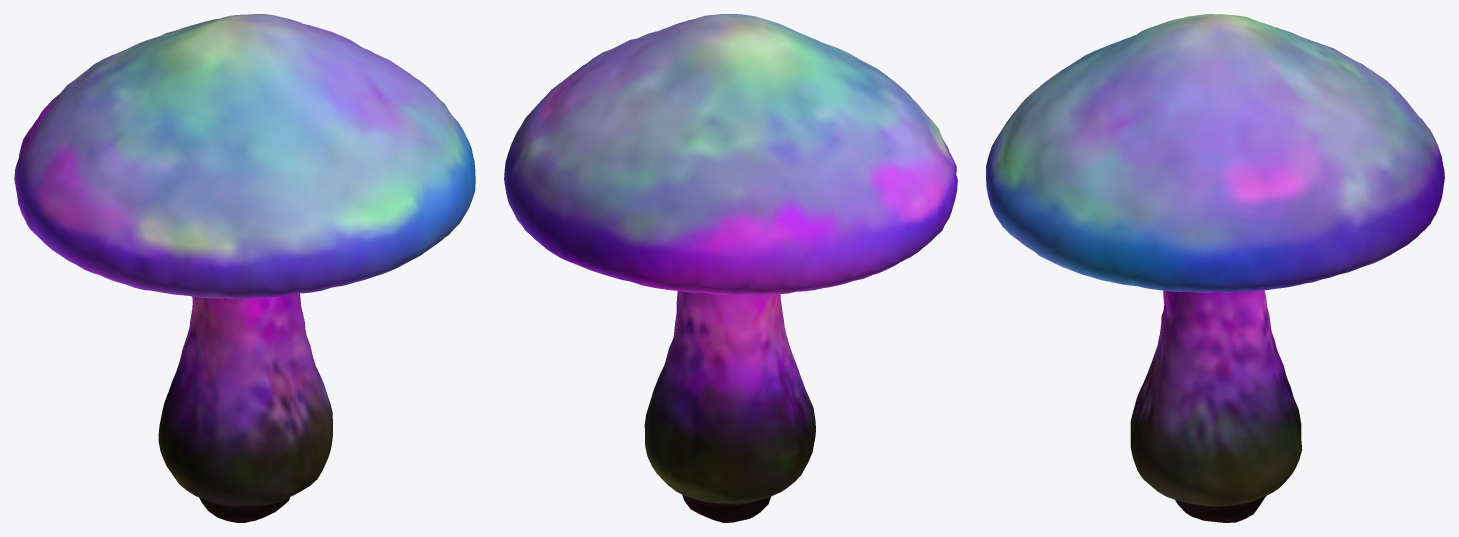
File: bioluminescent_mushroom_0529183536_preview.fbx
The picture shows the model from 3 angles, left to right: view 1: azimuth 30°, elevation 25°; view 2: azimuth 150°, elevation 25°; view 3: azimuth 270°, elevation 25°; orthographic projection.
Visible parts, largest first — view 1: Mesh1; view 2: Mesh1; view 3: Mesh1.
Boxes of the visible parts, x1,y1,x2,y2 form: Mesh1: [14, 14, 475, 522]; Mesh1: [504, 14, 957, 522]; Mesh1: [986, 14, 1444, 522].
Size of the model in its own units: 101 by 120 by 101.
Materials: 1 (1 with a texture image).
